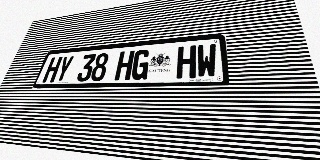3: (76, 54, 97, 82)
8: (89, 52, 110, 81)
G: (130, 49, 151, 80)
H: (176, 45, 196, 79), (114, 50, 135, 81), (42, 57, 63, 83)
W: (196, 43, 217, 78)
Y: (54, 56, 75, 82)
